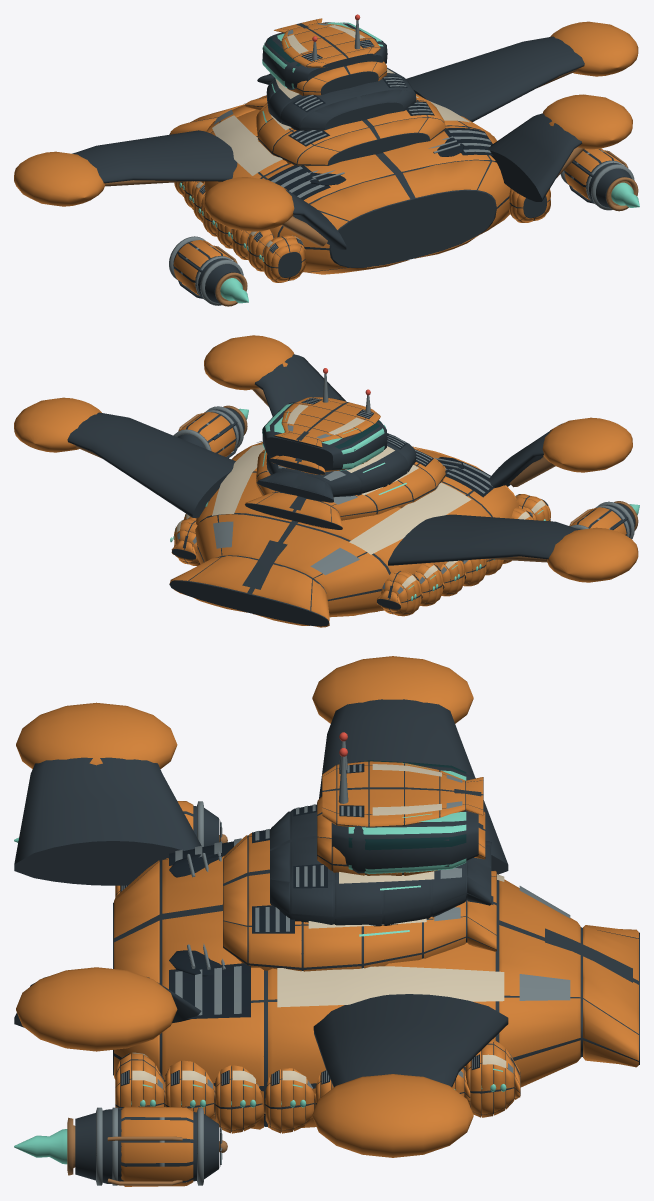
Rendered from siege.glb.
The picture shows the model from 3 angles, top to bottom: view 1: azimuth 30°, elevation 25°; view 2: azimuth 150°, elevation 25°; view 3: azimuth 270°, elevation 25°; orthographic projection. The views are drawn at different scales.
Parts seen in each view (by area): view 1: siege; view 2: siege; view 3: siege.
Part boxes in pixels (<box>): siege: <box>14,14,639,306</box>; siege: <box>14,335,639,627</box>; siege: <box>14,656,639,1186</box>.
Bounding box in the file's own units: 68.8 × 22.29 × 38.02.
